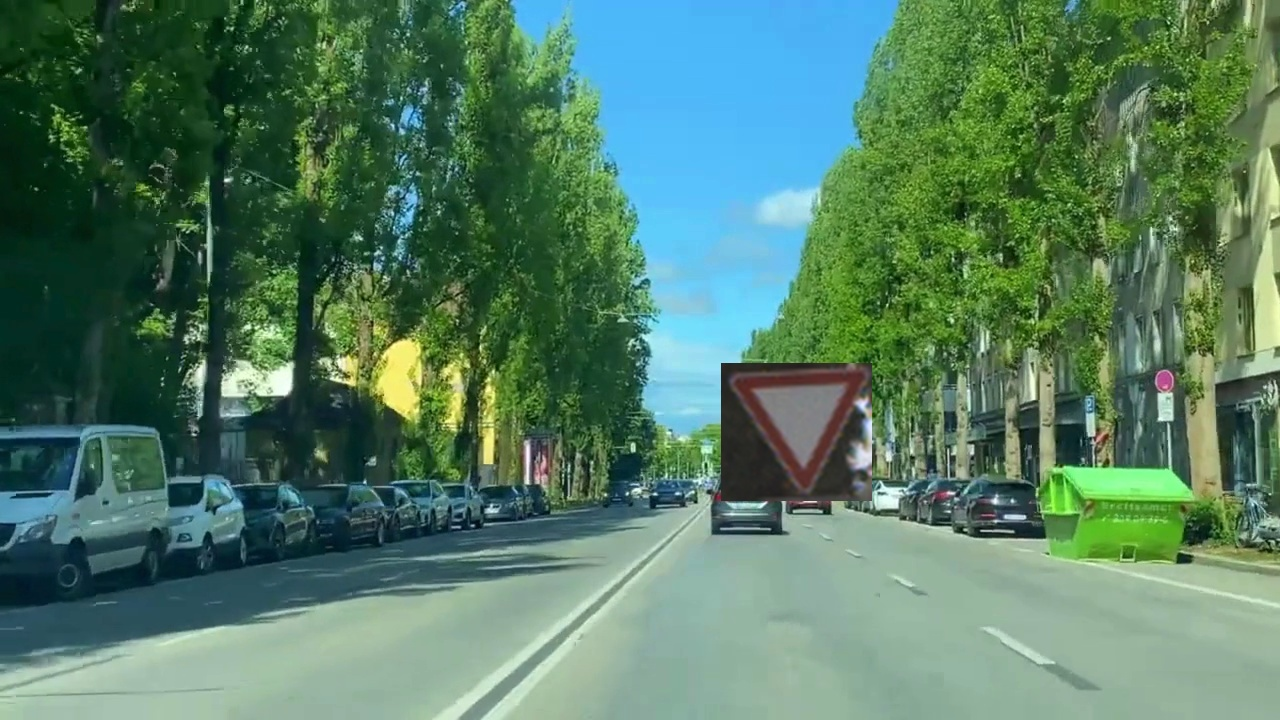Yield: (721, 363, 872, 501)
